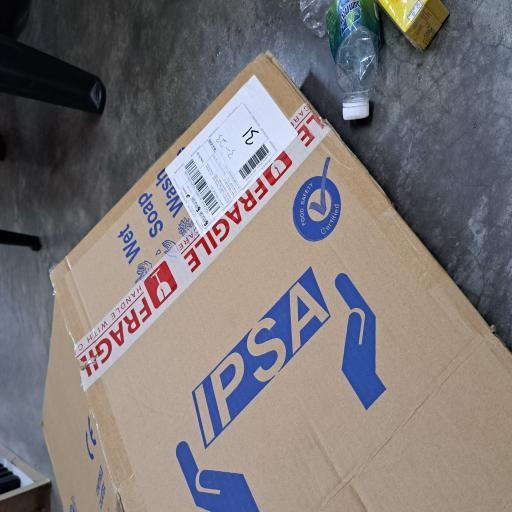drink carton: (0, 52, 344, 512)
plastic bottle: (292, 436, 384, 512), (355, 393, 384, 438)
plastic bottle cap: (293, 455, 316, 494)
